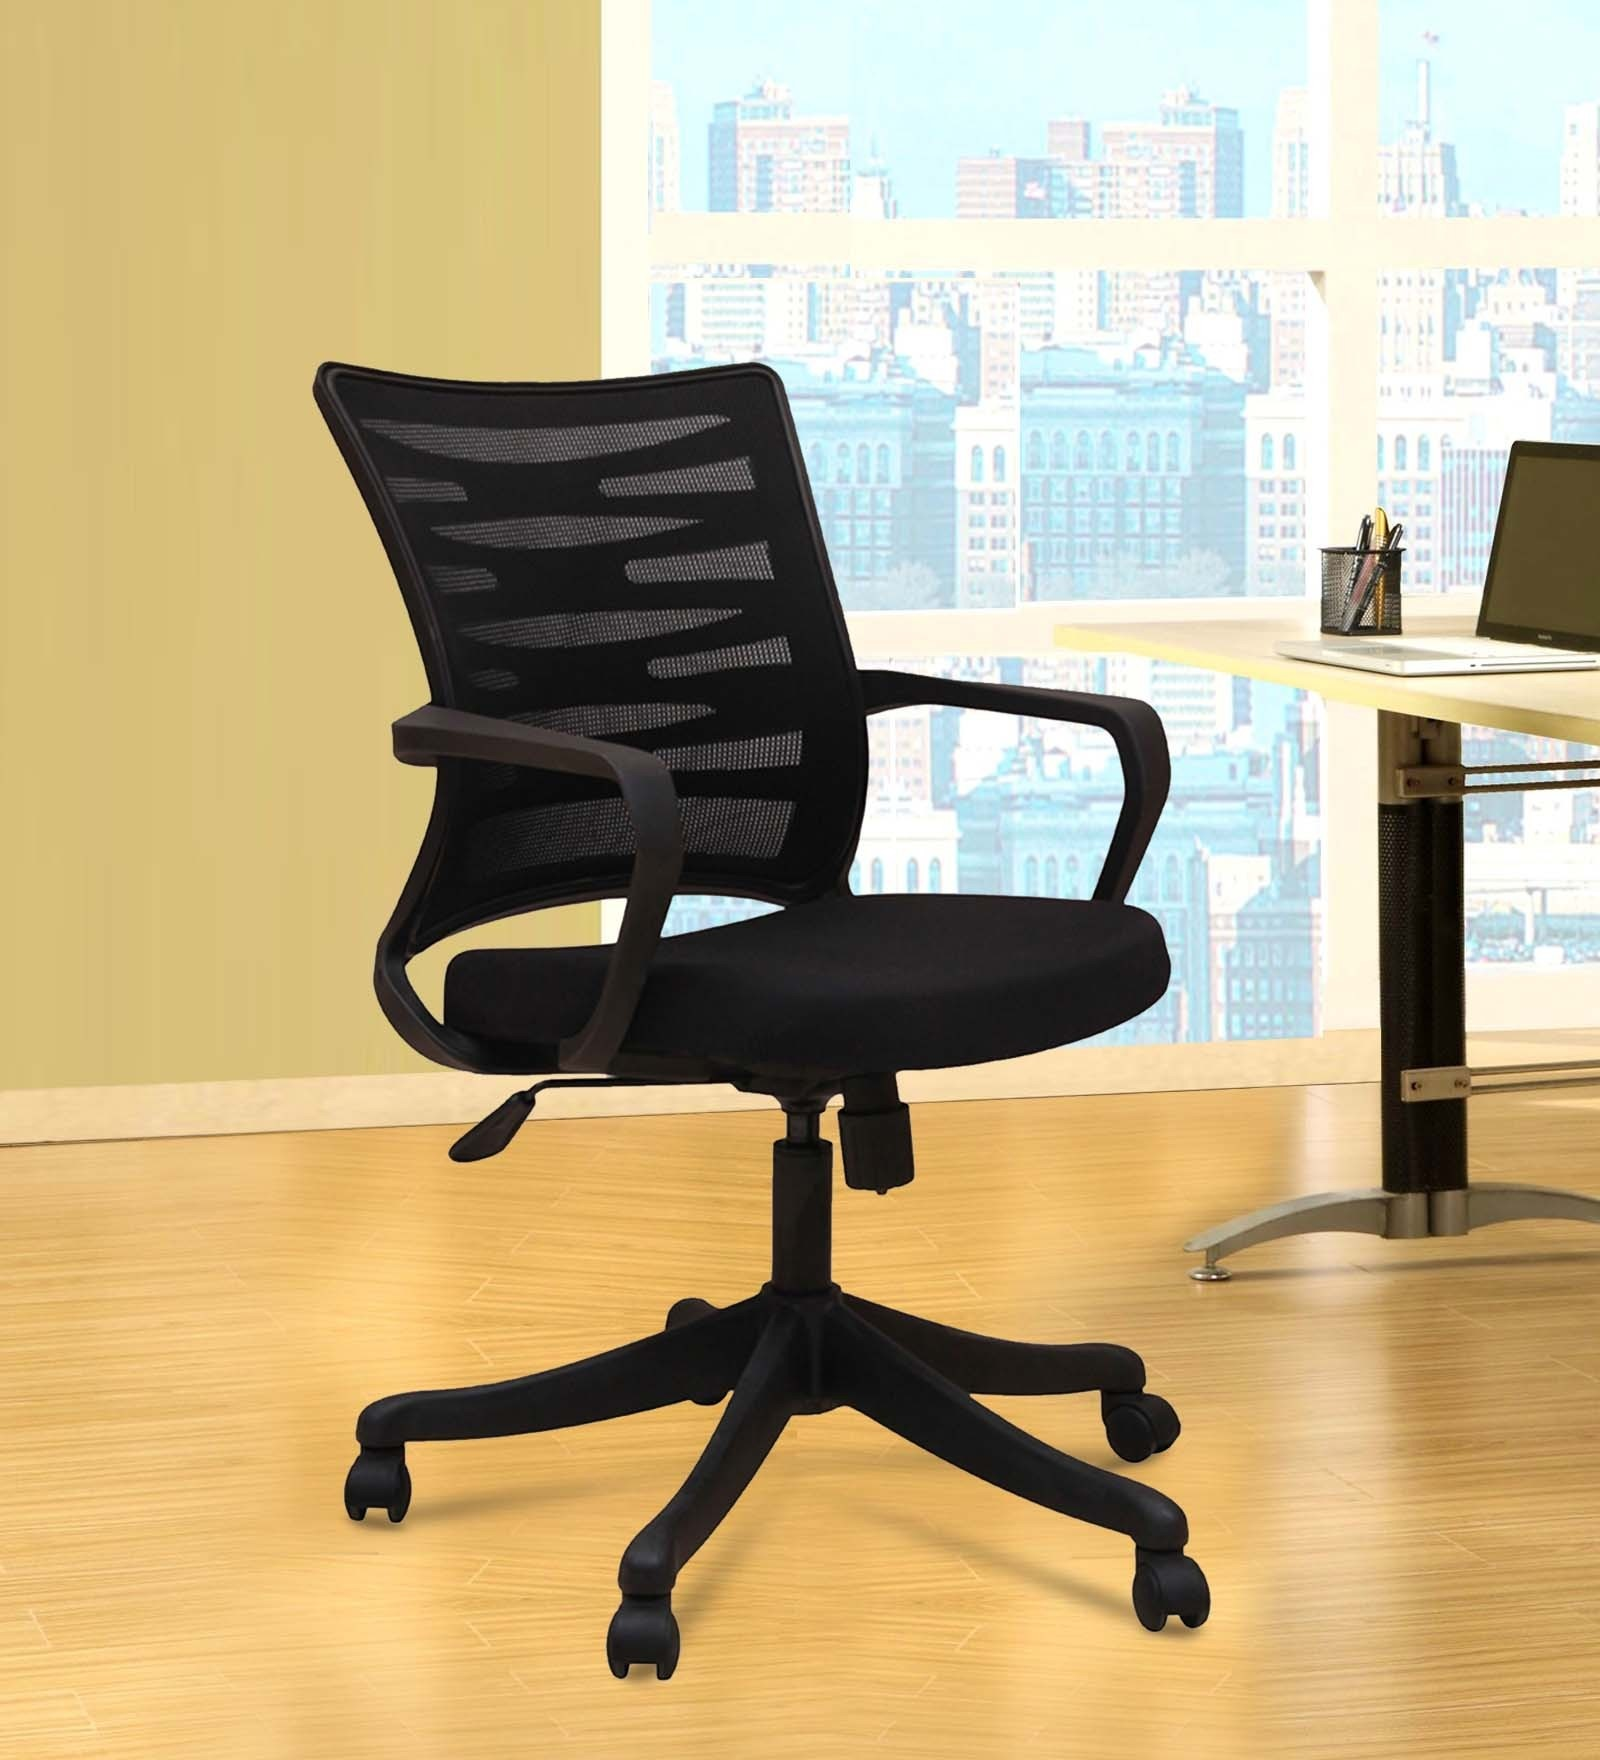Royal Mesh Ergonomic Chair in Black Colour by Adiko Systems: (215, 293, 1312, 1712)
